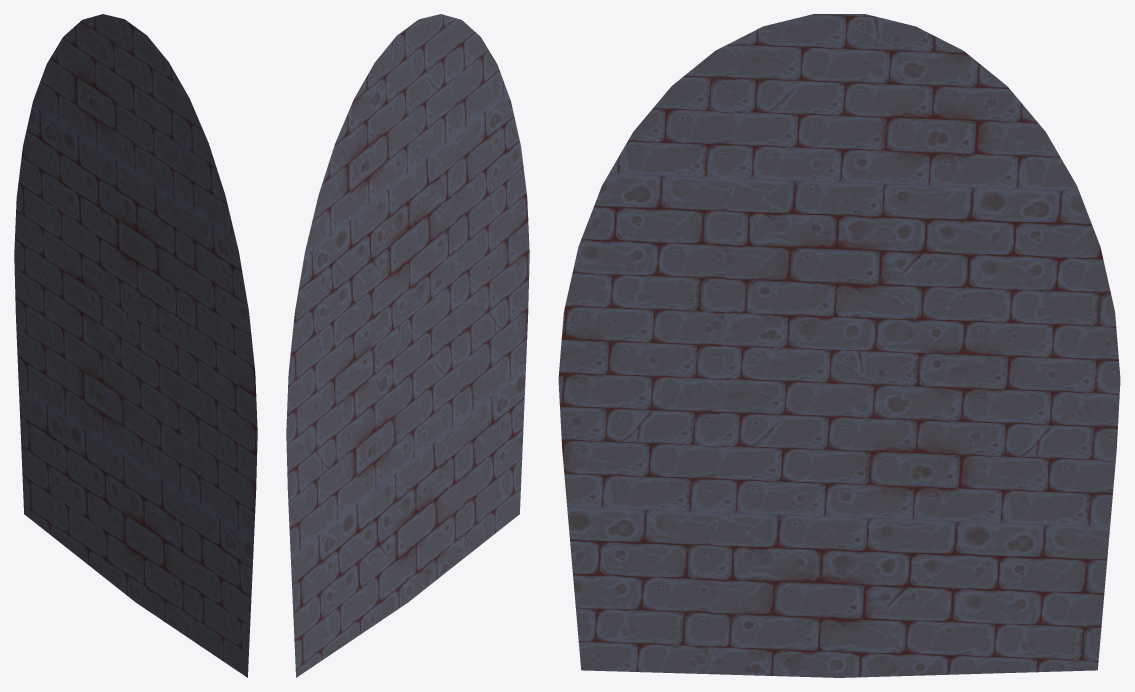
File: DoorWall.fbx
3 renders of one model, left to right at view 1: azimuth 30°, elevation 25°; view 2: azimuth 150°, elevation 25°; view 3: azimuth 270°, elevation 25°, orthographic. The views are drawn at different scales.
Parts seen in each view (by area): view 1: pCube6; view 2: pCube6; view 3: pCube6.
Boxes of the visible parts, x1=… form: pCube6: x1=14, y1=14, x2=257, y2=677; pCube6: x1=286, y1=14, x2=529, y2=677; pCube6: x1=558, y1=14, x2=1120, y2=677.
Bounding box in the file's own units: 0 × 4.81 × 3.69.
Materials: 1 (1 with a texture image).
